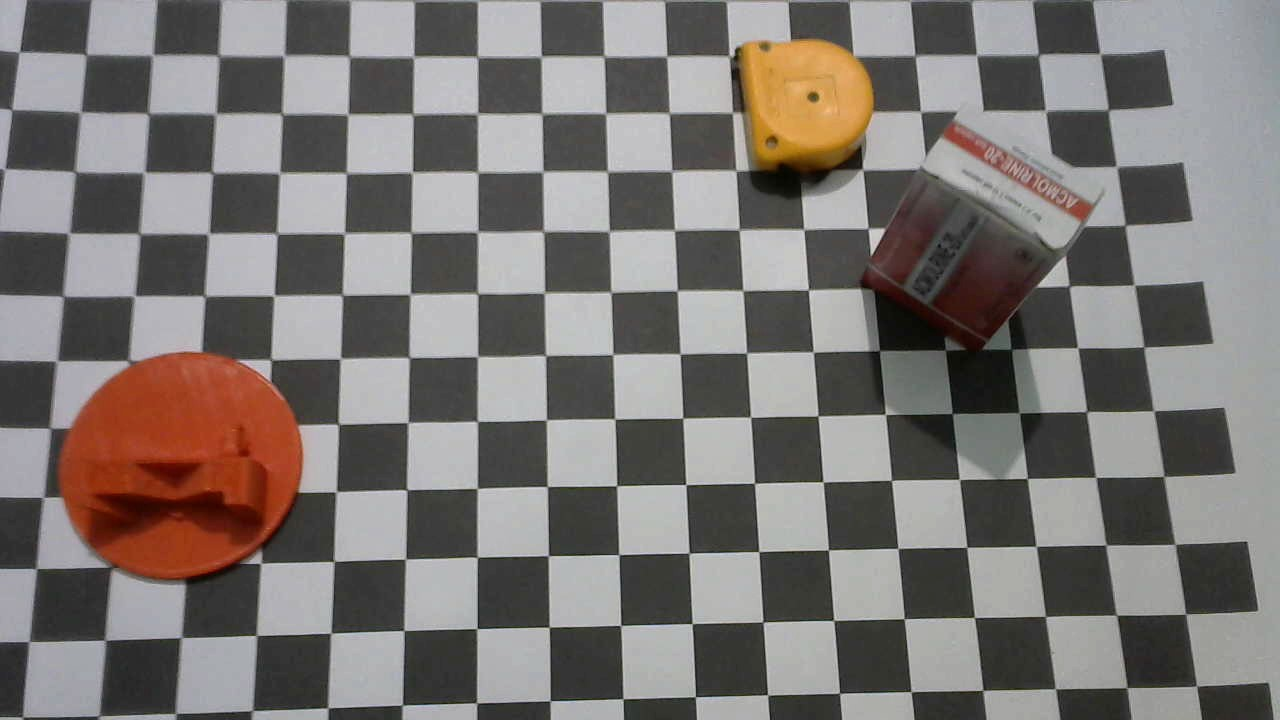blue: (730, 37, 877, 179)
green: (58, 349, 305, 583)
red: (869, 107, 1108, 350)
